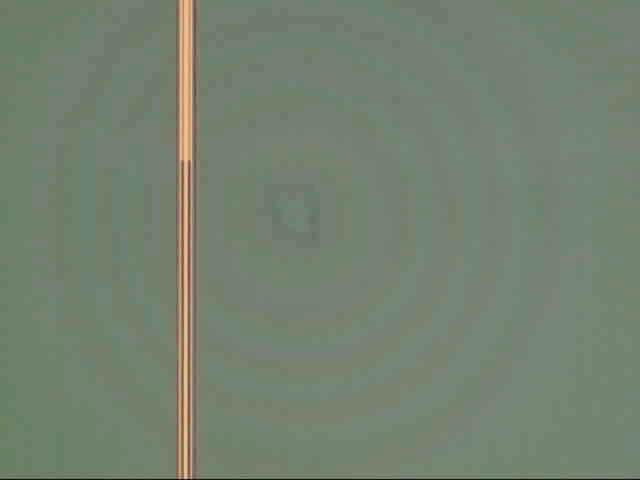PIQ PARTICLE: (252, 173, 336, 257)
